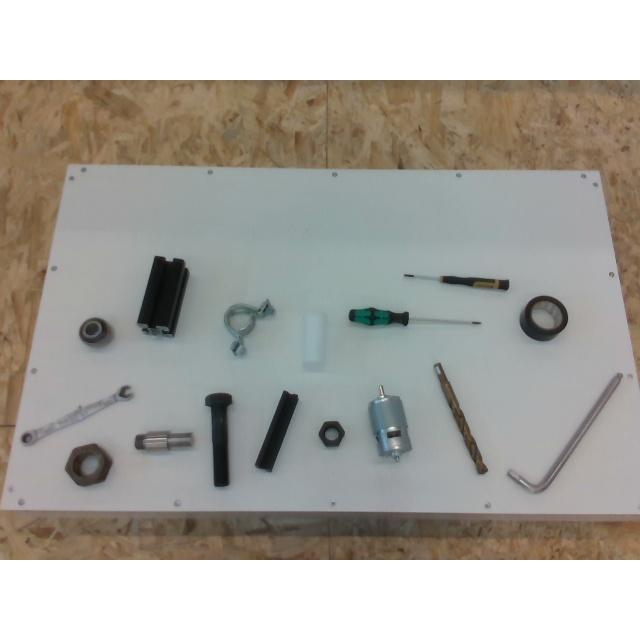AllenKey: (507, 373, 623, 493)
Axis2: (135, 431, 193, 449)
Bearing2: (79, 316, 109, 344)
Drill: (434, 362, 486, 473)
F20_20_B: (255, 390, 298, 470)
Housing: (223, 298, 275, 354)
M20: (318, 422, 344, 446)
M20_100: (205, 394, 231, 486)
M30: (65, 444, 111, 486)
Motor2: (369, 385, 411, 461)
S40_40_B: (136, 256, 188, 336)
Screwdriver: (348, 307, 480, 325)
Spacer: (302, 311, 326, 371)
Wrench: (19, 384, 132, 444)
